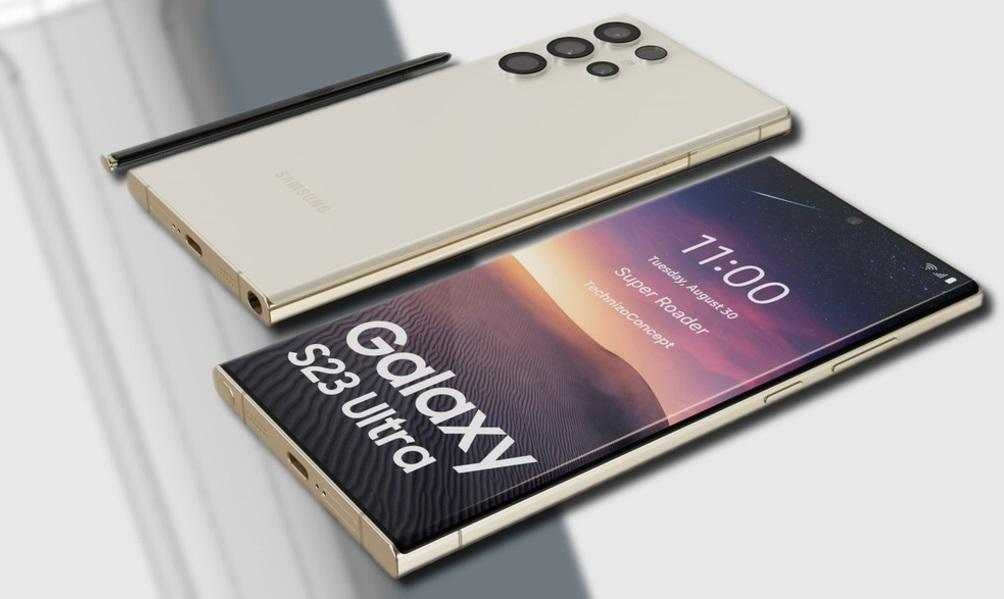Smart Phone: (212, 159, 993, 581), (125, 16, 799, 327)
